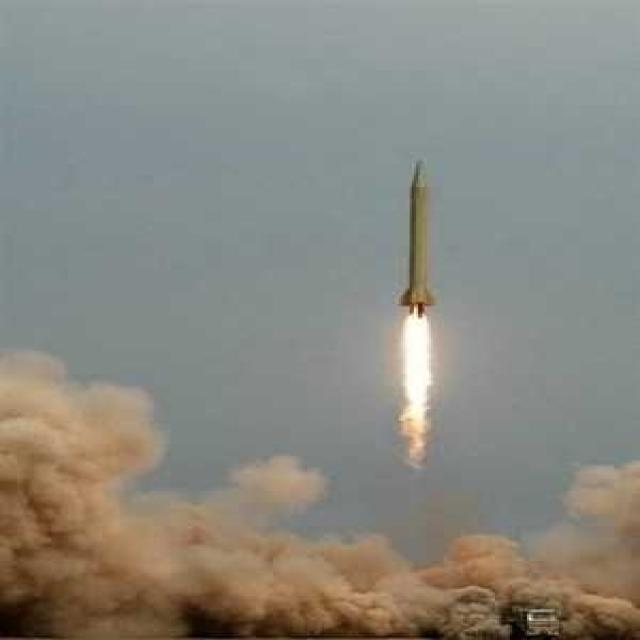missile: (400, 153, 450, 324)
